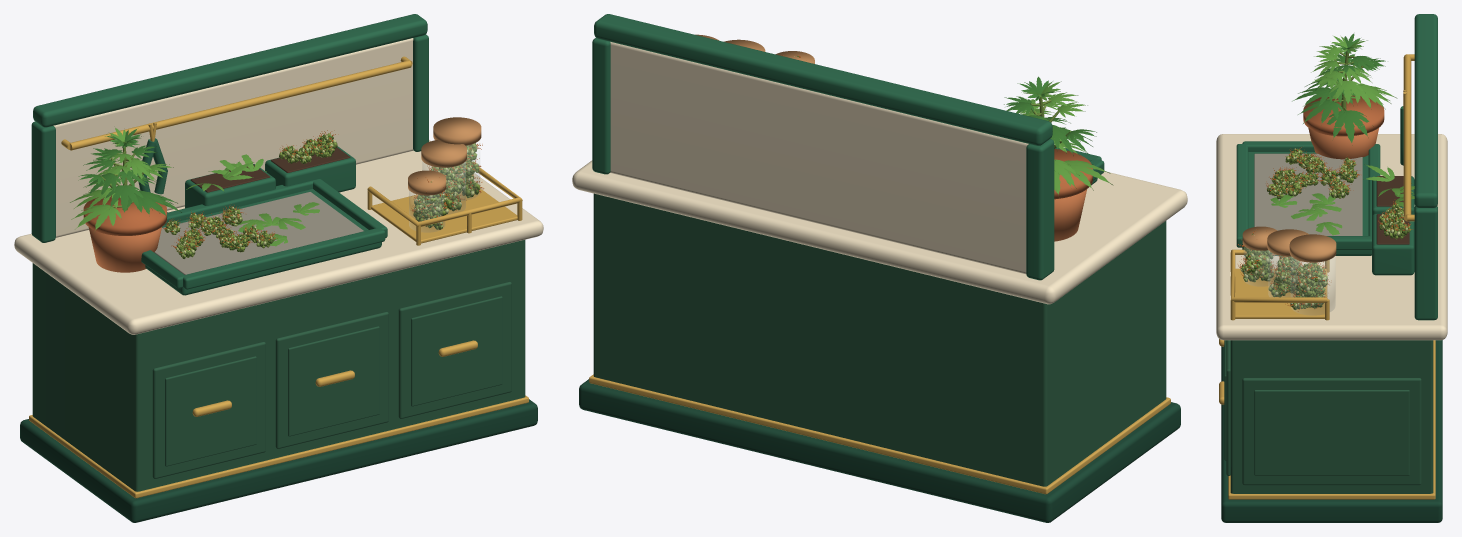
Rendered from harvest_bench_tier2.glb.
3 views of the same model, side by side, from view 1: azimuth 30°, elevation 25°; view 2: azimuth 150°, elevation 25°; view 3: azimuth 270°, elevation 25° (orthographic). The views are drawn at different scales.
Parts seen in each view (by area): view 1: Body, Upstand, Top, Plinth, UpstandCap, DrawerInset1, DrawerInset0, DrawerInset2, Screen, Drawer0, Drawer2, Drawer1 (+24 smaller); view 2: Body, Upstand, Top, Plinth, UpstandCap, BaseBrass, UpstandSide-1, UpstandSide1, PotPot, PotRim; view 3: Top, EndInset, Body, Plinth, EndPanel, Screen, UpstandCap, UpstandSide1, GalleryBase, Jar2Glass, BaseBrass, Planter1 (+28 smaller).
Part boxes in pixels (x1,y1,x2,y2): Body: (32, 240, 525, 491); Upstand: (53, 38, 413, 237); Top: (14, 140, 543, 334); Plinth: (20, 399, 537, 522); UpstandCap: (33, 14, 427, 127); DrawerInset1: (288, 326, 379, 436); DrawerInset0: (165, 356, 256, 466); DrawerInset2: (411, 296, 502, 406); Screen: (154, 192, 363, 274); Drawer0: (152, 341, 265, 478); Drawer2: (398, 281, 511, 418); Drawer1: (275, 311, 388, 448); Body: (593, 193, 1166, 486); Upstand: (610, 42, 1028, 274); Top: (572, 160, 1187, 304); Plinth: (579, 379, 1180, 522); UpstandCap: (594, 14, 1052, 145); BaseBrass: (589, 374, 1170, 494); UpstandSide-1: (1026, 139, 1054, 280); UpstandSide1: (592, 38, 610, 174); PotPot: (1054, 189, 1086, 241); PotRim: (1054, 149, 1092, 199); Top: (1216, 134, 1447, 340); EndInset: (1254, 390, 1409, 475); Body: (1230, 340, 1433, 493); Plinth: (1221, 340, 1442, 522); EndPanel: (1242, 378, 1421, 485); Screen: (1254, 153, 1362, 235); UpstandCap: (1414, 14, 1437, 207); UpstandSide1: (1414, 206, 1437, 320); GalleryBase: (1235, 268, 1327, 318); Jar2Glass: (1291, 256, 1335, 315); BaseBrass: (1228, 340, 1435, 499); Planter1: (1372, 214, 1414, 275).
Bounding box in the file's own units: 1.97 × 1.52 × 0.98.
